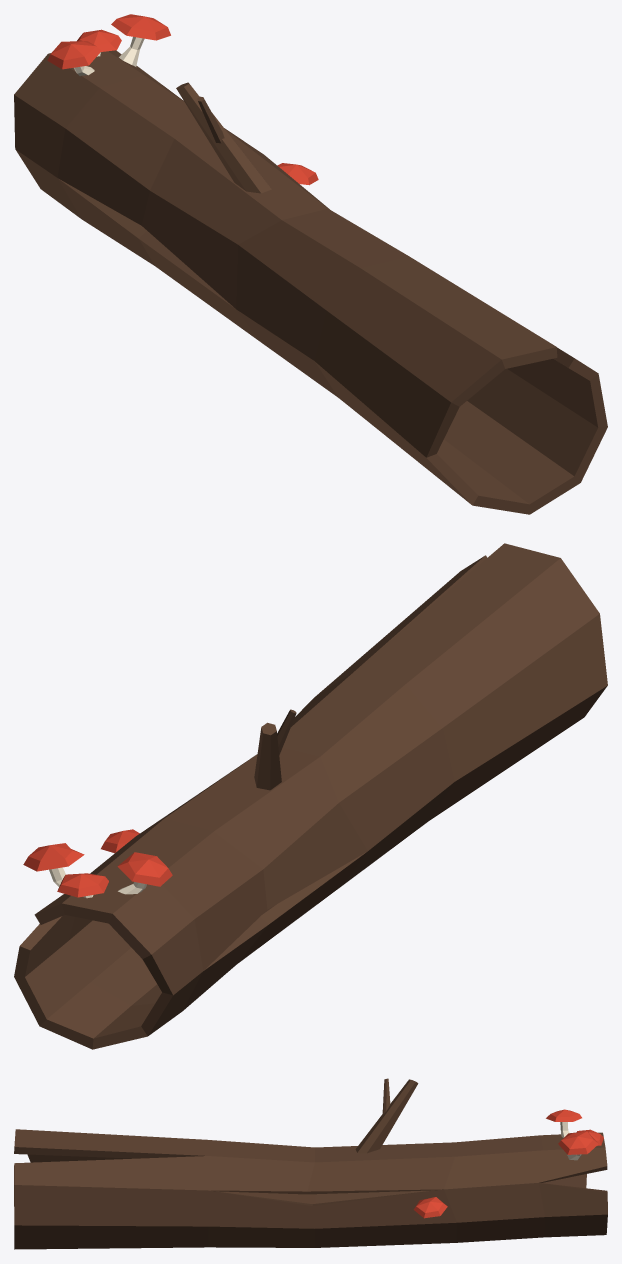
File: log-a.glb
3 views of the same model, one above another, from view 1: azimuth 30°, elevation 25°; view 2: azimuth 150°, elevation 25°; view 3: azimuth 270°, elevation 25° (orthographic). The views are drawn at different scales.
Parts seen in each view (by area): view 1: WoodLog; view 2: WoodLog; view 3: WoodLog.
Boxes of the visible parts, x1,y1,x2,y2 form: WoodLog: [14, 14, 607, 514]; WoodLog: [14, 543, 607, 1049]; WoodLog: [14, 1078, 607, 1249].
Size of the model in its own units: 0.3792 by 0.4484 by 1.6.
